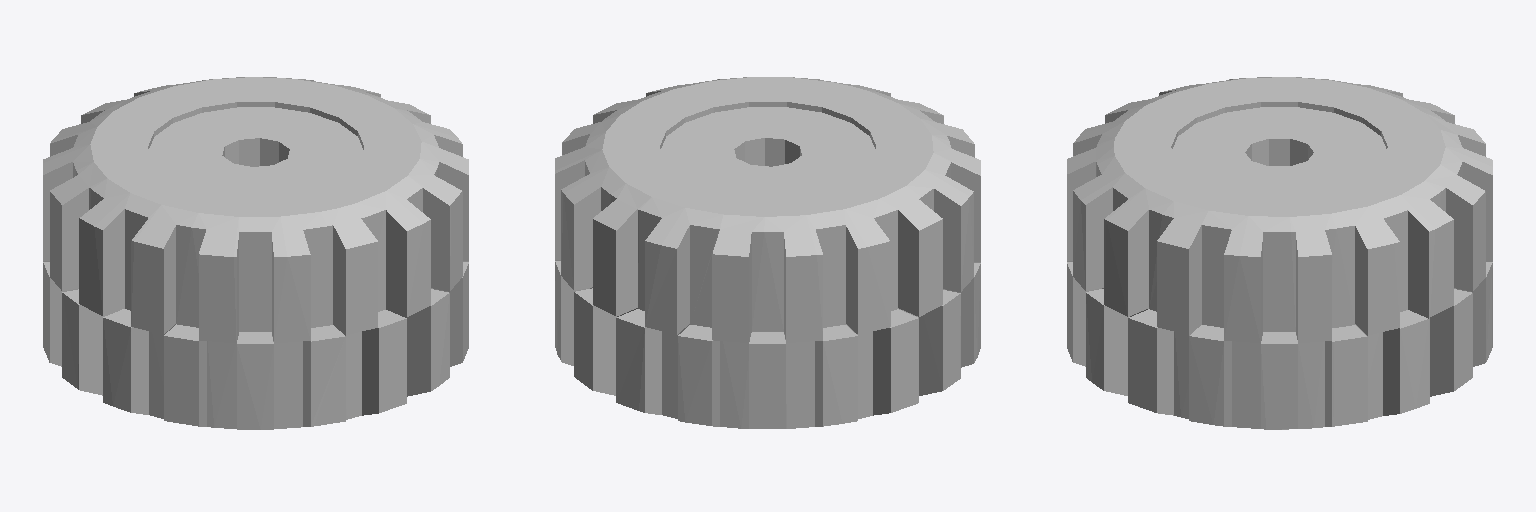
File: Wheel_front-left.obj
3 views of the same model, side by side, from view 1: azimuth 30°, elevation 25°; view 2: azimuth 150°, elevation 25°; view 3: azimuth 270°, elevation 25° (orthographic).
Size of the model in its own units: 21.66 by 12.2 by 21.66.